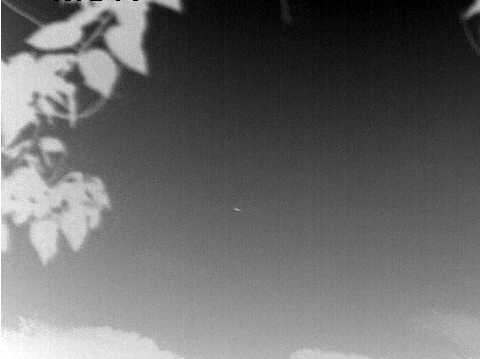dim target: (232, 206, 241, 212)
